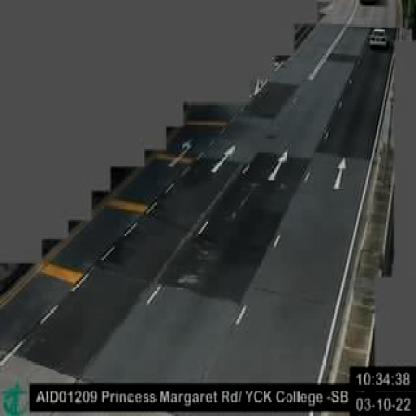Car: (368, 28, 385, 47)
